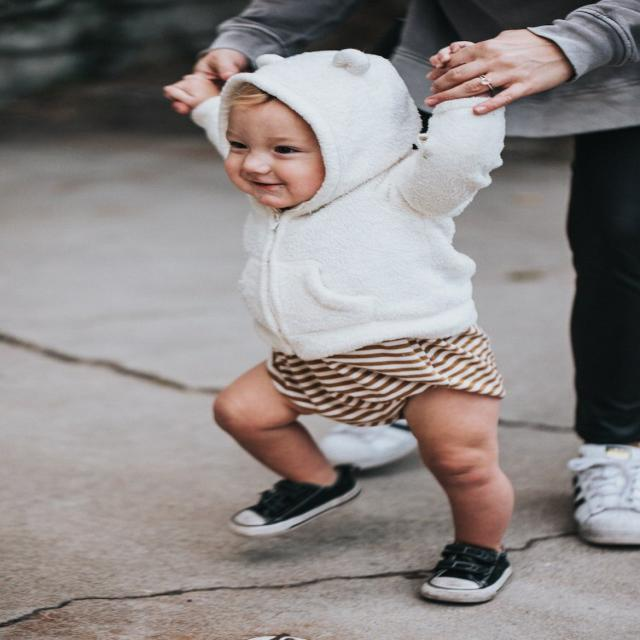non-dog: (170, 0, 640, 551), (186, 33, 520, 607)
